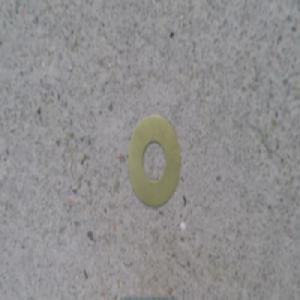Washer: (127, 112, 183, 212)
